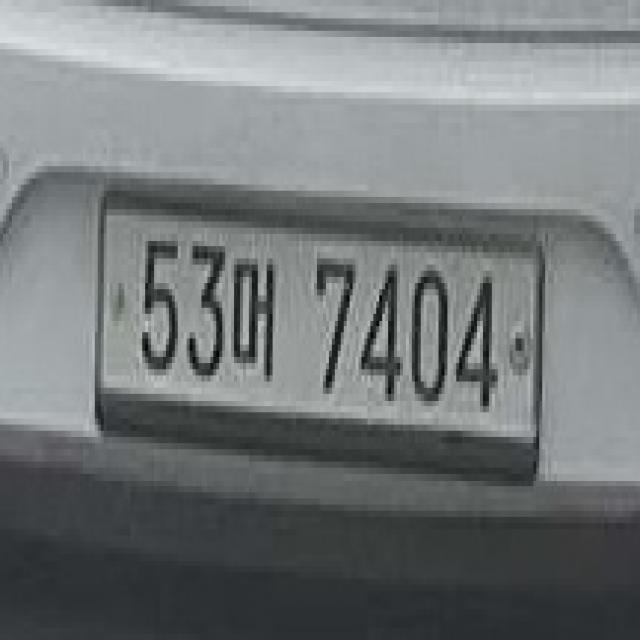0: (406, 265, 465, 412)
3: (184, 228, 228, 382)
4: (454, 264, 516, 424), (358, 259, 406, 406)
5: (142, 216, 184, 382)
7: (308, 258, 359, 394)
license_plate: (77, 191, 542, 492)
meo: (228, 240, 276, 382)
